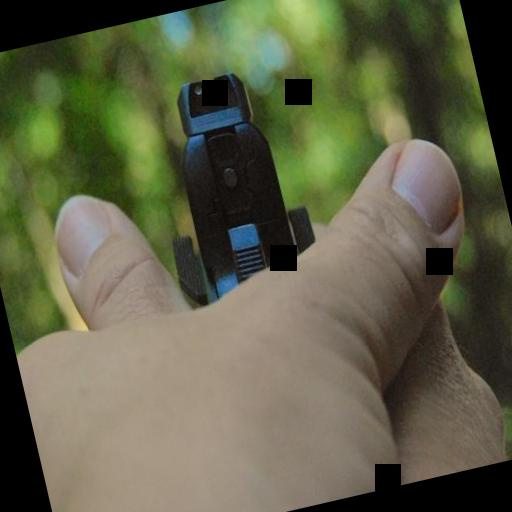Handgun: (126, 40, 342, 321)
